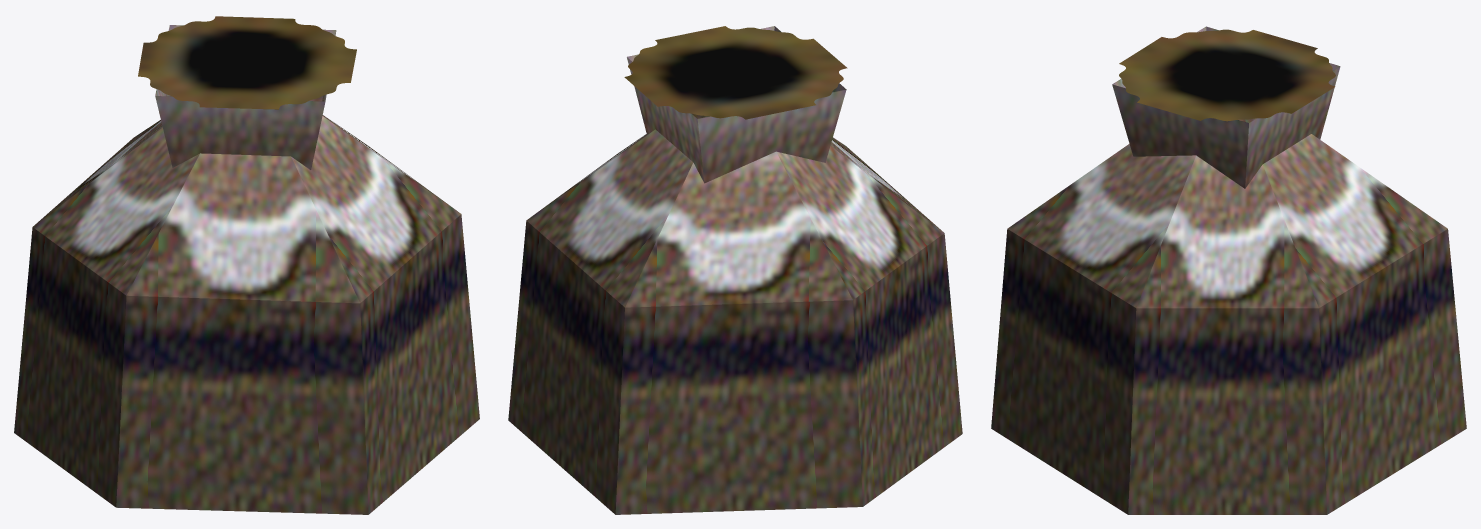
Rendered from Jarron.obj.
3 renders of one model, left to right at view 1: azimuth 30°, elevation 25°; view 2: azimuth 150°, elevation 25°; view 3: azimuth 270°, elevation 25°, orthographic. The views are drawn at different scales.
Parts seen in each view (by area): view 1: zelda_pot:pot_base, zelda_pot:pot_top; view 2: zelda_pot:pot_base, zelda_pot:pot_top; view 3: zelda_pot:pot_base, zelda_pot:pot_top.
Boxes of the visible parts, x1,y1,x2,y2 form: zelda_pot:pot_base: (14, 25, 479, 514); zelda_pot:pot_top: (138, 16, 356, 109); zelda_pot:pot_base: (508, 26, 962, 514); zelda_pot:pot_top: (624, 26, 847, 119); zelda_pot:pot_base: (991, 26, 1466, 514); zelda_pot:pot_top: (1119, 29, 1335, 121).
Size of the model in its own units: 3.69 by 4 by 4.3.
2 materials, 2 textured.
